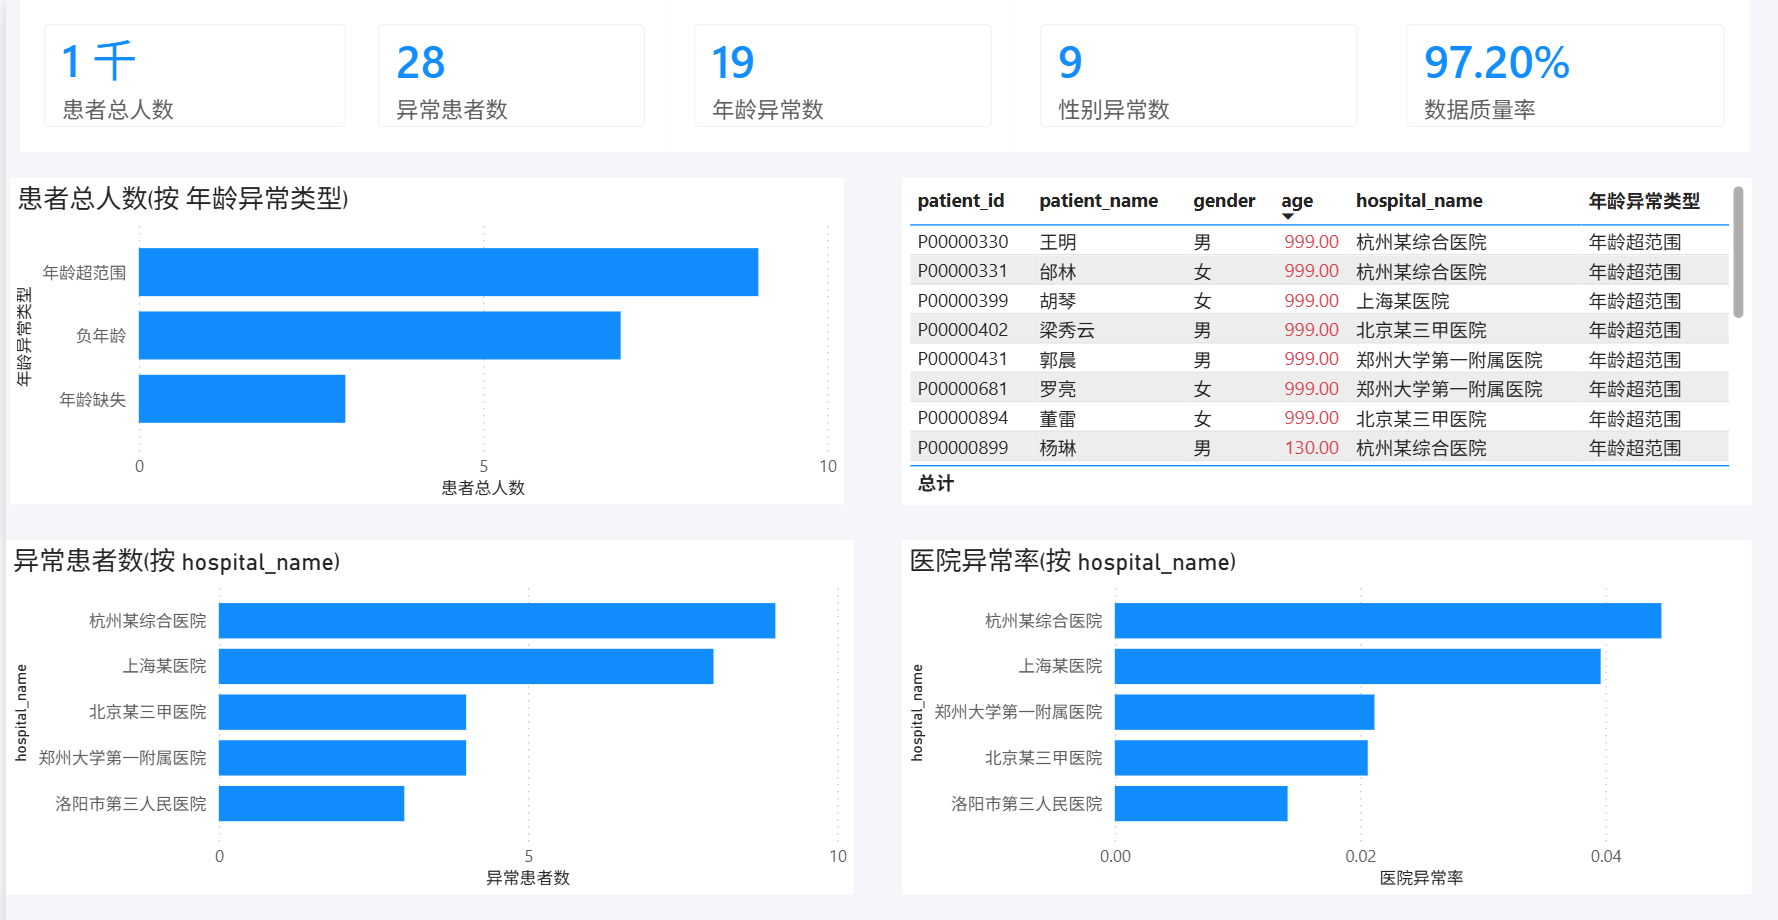

Layout of this report page (visuals, bound fields, positions):
{"tool":"powerbi","page":{"name":"数据质量监控（Data Quality Dashboard）","canvas":[1280,720],"ordinal":4},"visuals":[{"type":"cardVisual","fields":{"Data":["public patient_synthetic.患者总人数"]},"box":[10,0,250,108.6],"z":0},{"type":"cardVisual","fields":{"Data":["public patient_synthetic.年龄异常数"]},"box":[474.3,0,247.1,108.6],"z":1000},{"type":"cardVisual","fields":{"Data":["public patient_synthetic.性别异常数"]},"box":[721.4,0,261.4,108.6],"z":2000},{"type":"cardVisual","fields":{"Data":["public patient_synthetic.数据质量率"]},"box":[982.9,0,262.9,108.6],"z":3000},{"type":"clusteredBarChart","fields":{"Category":["public patient_synthetic.年龄异常类型"],"Y":["public patient_synthetic.患者总人数"]},"box":[2.9,127.1,595.7,232.9],"z":4000},{"type":"clusteredBarChart","fields":{"Category":["public patient_synthetic.hospital_name"],"Y":["public patient_synthetic.医院异常率"]},"box":[640,385.7,607.1,252.9],"z":5000},{"type":"tableEx","fields":{"Values":["public patient_synthetic.patient_id","public patient_synthetic.patient_name","public patient_synthetic.gender","public patient_synthetic.age","public patient_synthetic.hospital_name","public patient_synthetic.年龄异常类型"]},"box":[640,127.1,607.1,232.9],"z":6000},{"type":"cardVisual","fields":{"Data":["public patient_synthetic.异常患者数"]},"box":[248.6,0,225.7,108.6],"z":7000},{"type":"clusteredBarChart","fields":{"Category":["public patient_synthetic.hospital_name"],"Y":["public patient_synthetic.异常患者数"]},"box":[0,385.7,605.7,252.9],"z":8000}]}

Visuals, with their boxes on the page's 1280x720 design canvas (x1, y1, x2, y2). These are canvas units, not pixel positions in the 1778x920 screenshot, which may show the page scaled, cropped or inside an application window:
cardVisual - public patient_synthetic.患者总人数: locate(10, 0, 260, 109)
cardVisual - public patient_synthetic.年龄异常数: locate(474, 0, 721, 109)
cardVisual - public patient_synthetic.性别异常数: locate(721, 0, 983, 109)
cardVisual - public patient_synthetic.数据质量率: locate(983, 0, 1246, 109)
clusteredBarChart - public patient_synthetic.年龄异常类型 x public patient_synthetic.患者总人数: locate(3, 127, 599, 360)
clusteredBarChart - public patient_synthetic.hospital_name x public patient_synthetic.医院异常率: locate(640, 386, 1247, 639)
tableEx - public patient_synthetic.patient_id x public patient_synthetic.patient_name: locate(640, 127, 1247, 360)
cardVisual - public patient_synthetic.异常患者数: locate(249, 0, 474, 109)
clusteredBarChart - public patient_synthetic.hospital_name x public patient_synthetic.异常患者数: locate(0, 386, 606, 639)
